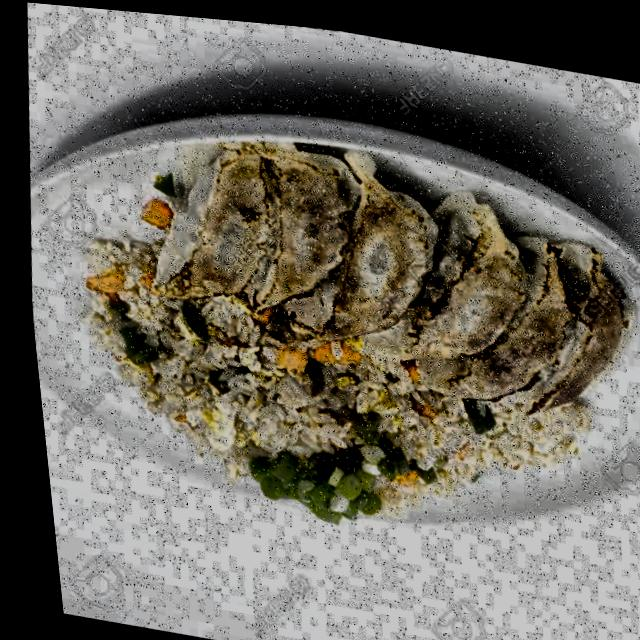Food: (115, 97, 640, 448)
